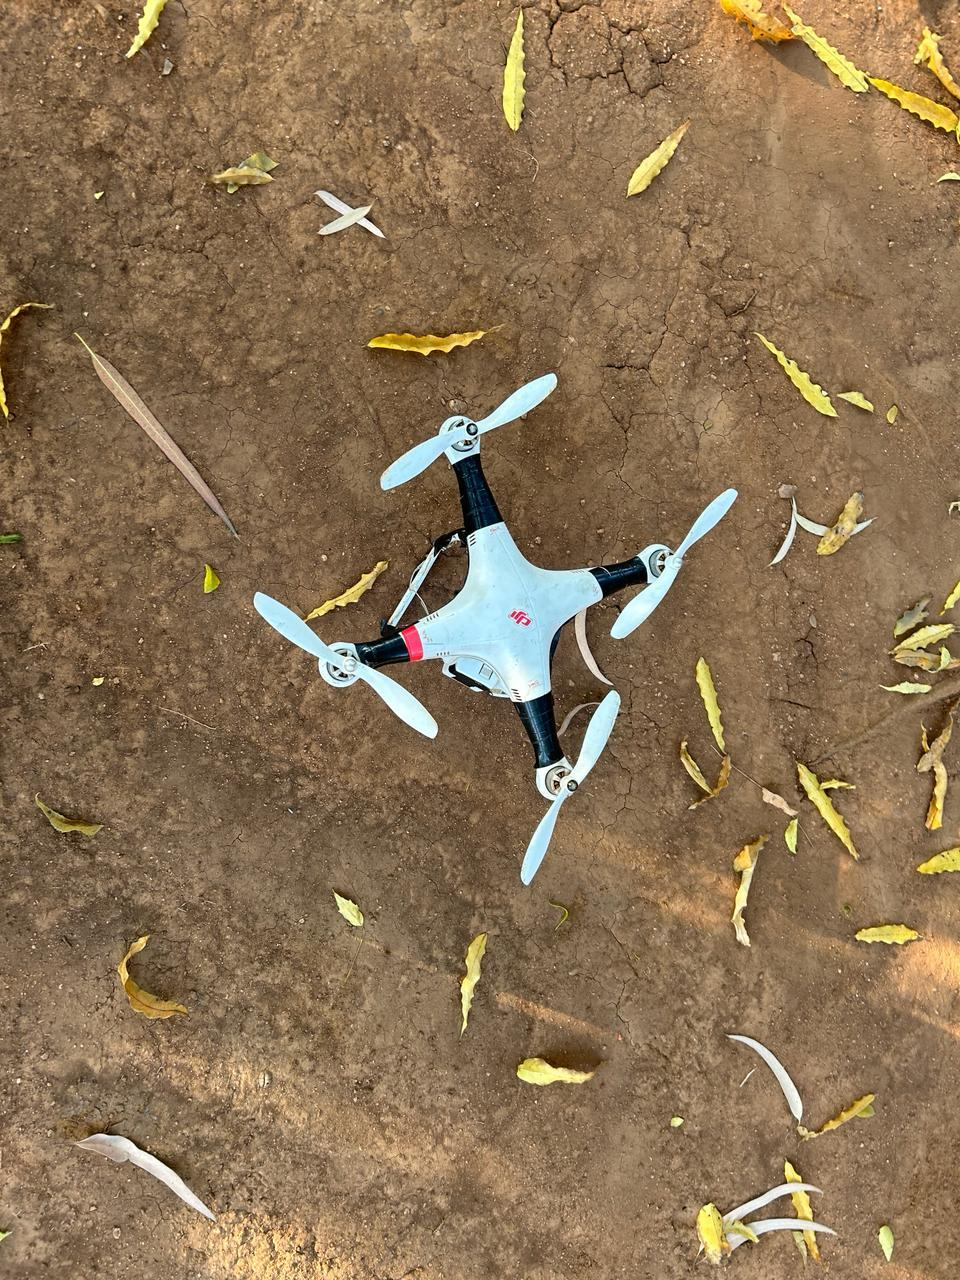drone: (258, 410, 702, 817)
